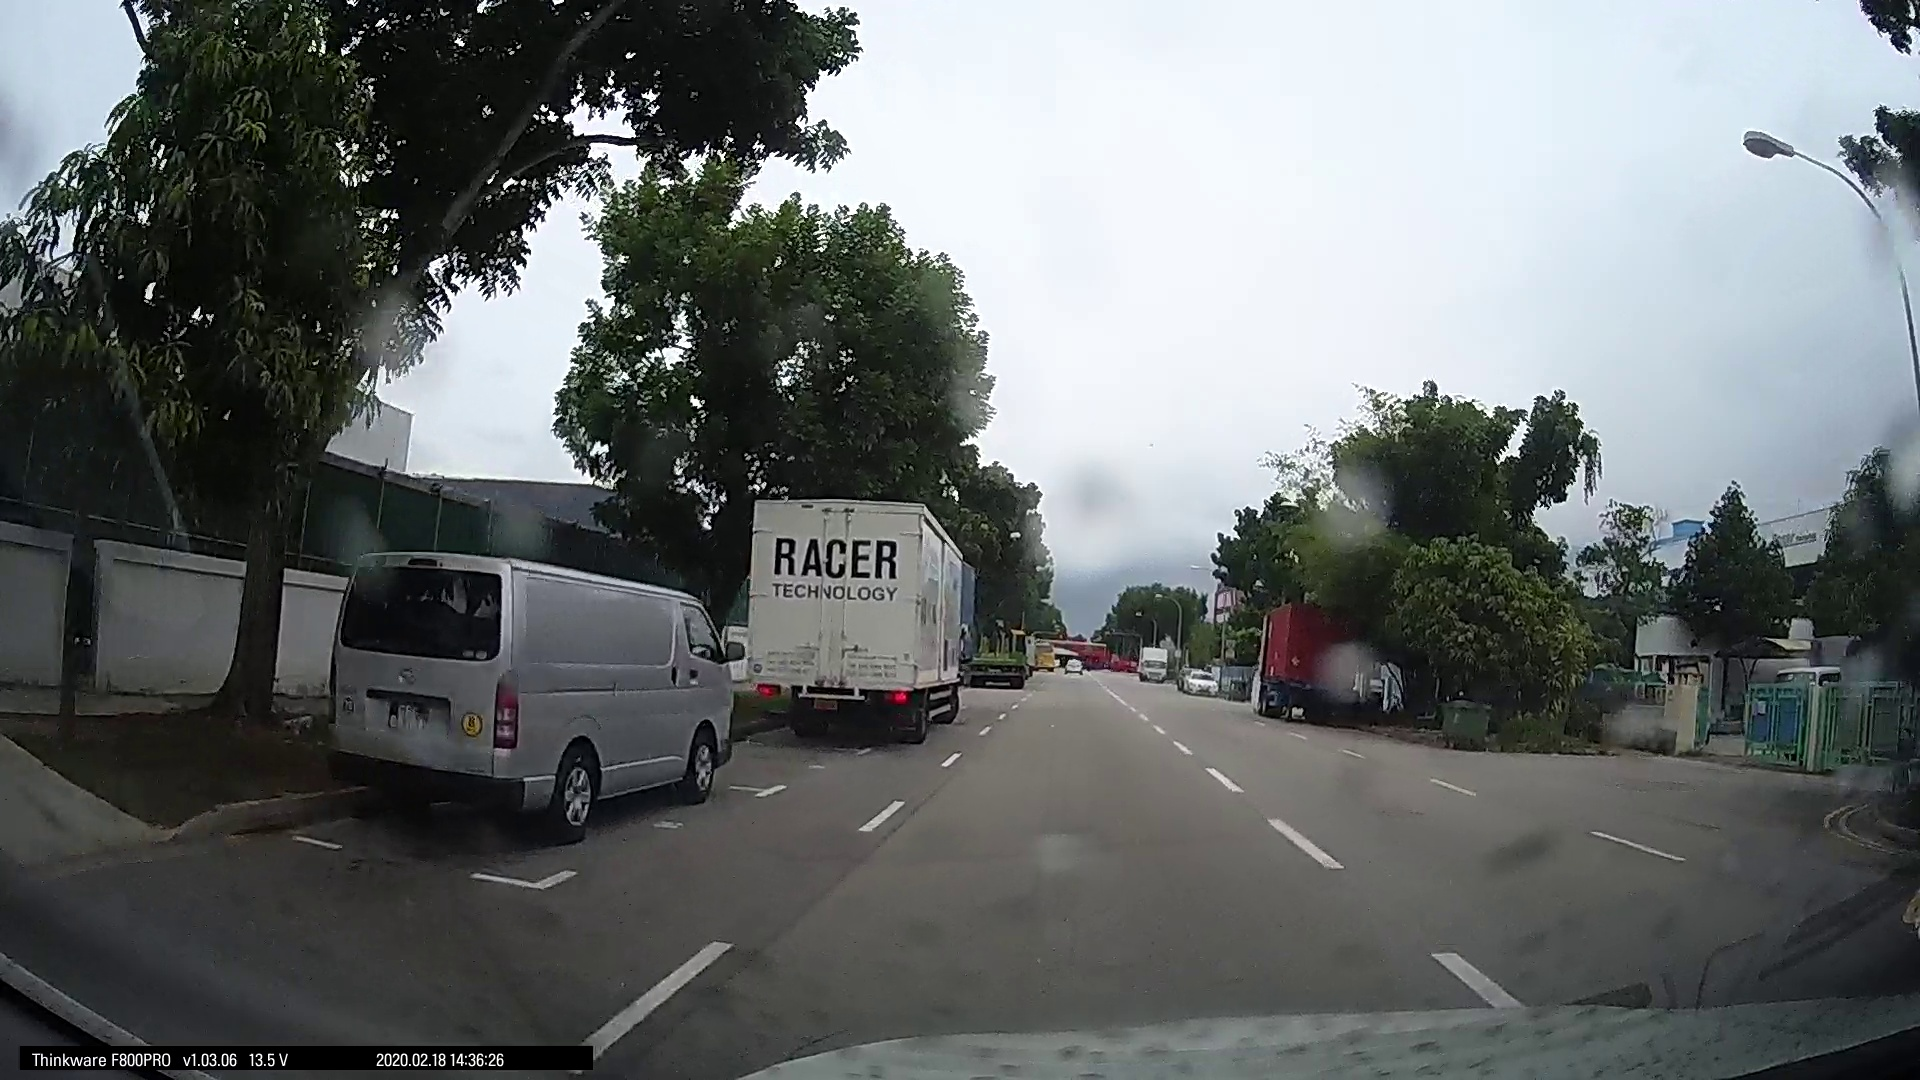Heavy Vehicle: (732, 489, 971, 748), (1250, 608, 1396, 725)
Light Vehicle: (310, 538, 746, 836), (1179, 662, 1218, 694)
